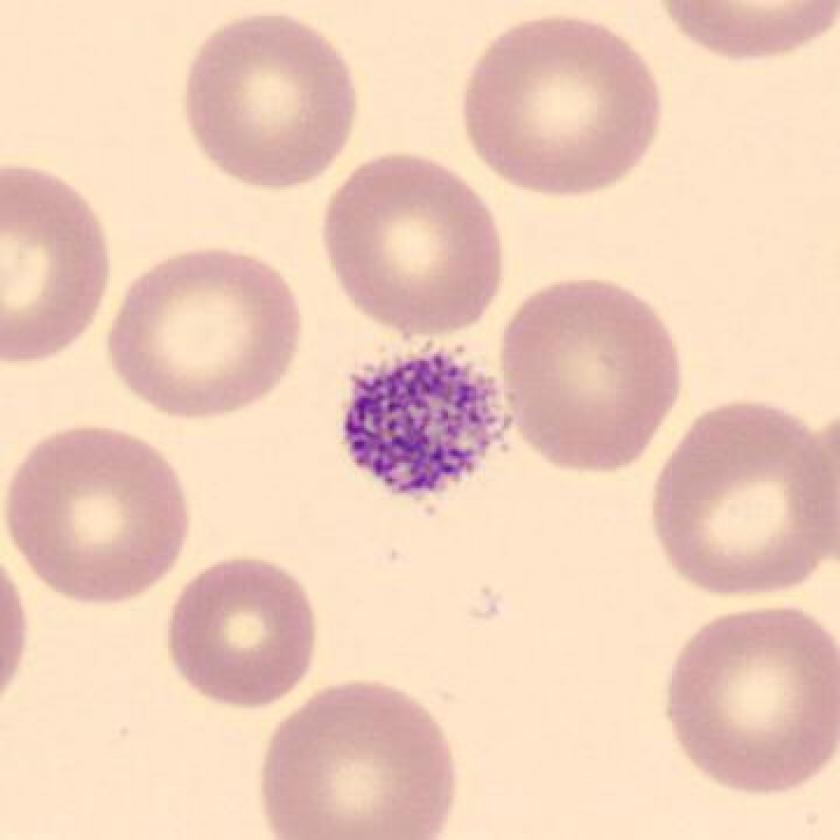platelets: (328, 330, 524, 515)
